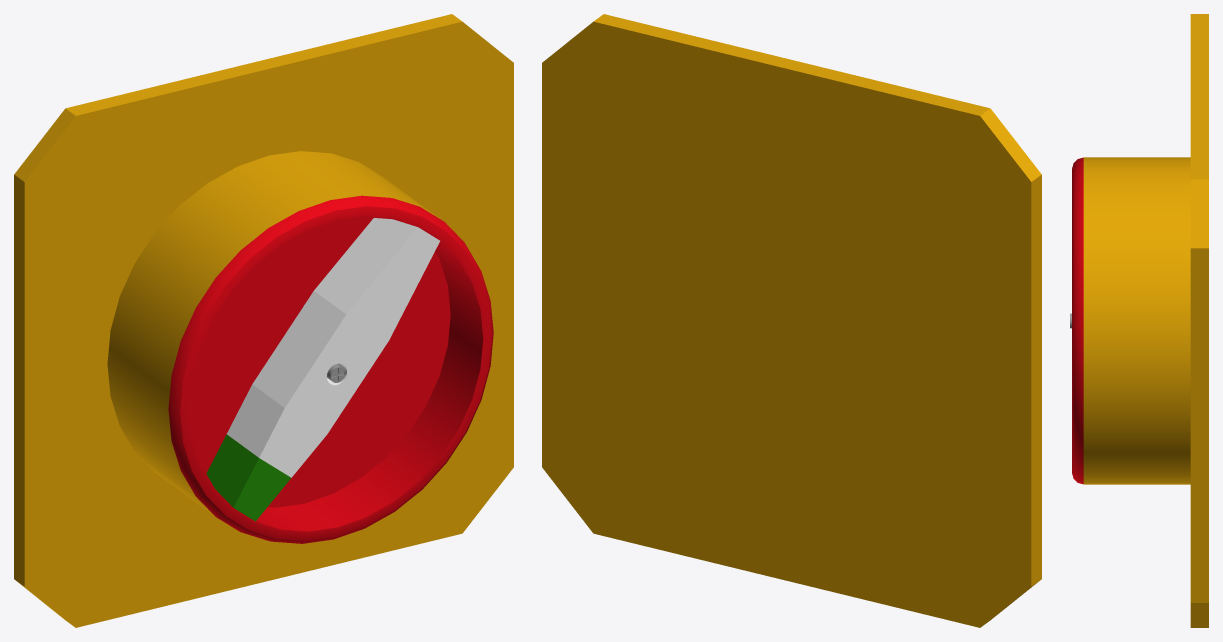
File: Switch.fbx
3 renders of one model, left to right at view 1: azimuth 30°, elevation 25°; view 2: azimuth 150°, elevation 25°; view 3: azimuth 270°, elevation 25°, orthographic. The views are drawn at different scales.
Visible parts, largest first — view 1: Cylinder.008, Cylinder.009; view 2: Cylinder.008; view 3: Cylinder.008.
Boxes of the visible parts, x1=… form: Cylinder.008: x1=14, y1=14, x2=513, y2=627; Cylinder.009: x1=206, y1=218, x2=439, y2=521; Cylinder.008: x1=542, y1=14, x2=1041, y2=627; Cylinder.008: x1=1072, y1=14, x2=1208, y2=627.
Size of the model in its own units: 5.07 by 5.07 by 1.42.
